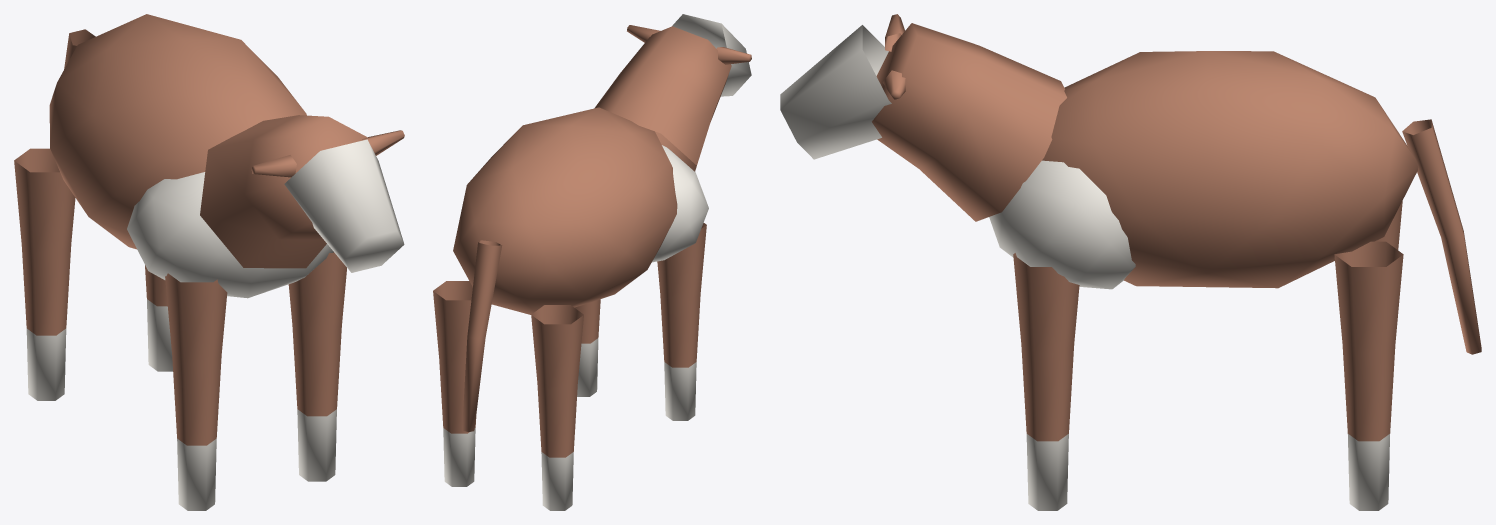
File: cow_0.glb
The picture shows the model from 3 angles, left to right: view 1: azimuth 30°, elevation 25°; view 2: azimuth 150°, elevation 25°; view 3: azimuth 270°, elevation 25°; orthographic projection. The views are drawn at different scales.
Visible parts, largest first — view 1: cow_0.glb; view 2: cow_0.glb; view 3: cow_0.glb.
Boxes of the visible parts, x1,y1,x2,y2 form: cow_0.glb: (14,14,404,510); cow_0.glb: (433,14,751,510); cow_0.glb: (780,14,1481,510).
Bounding box in the file's own units: 0.7101 × 1.38 × 1.99.
